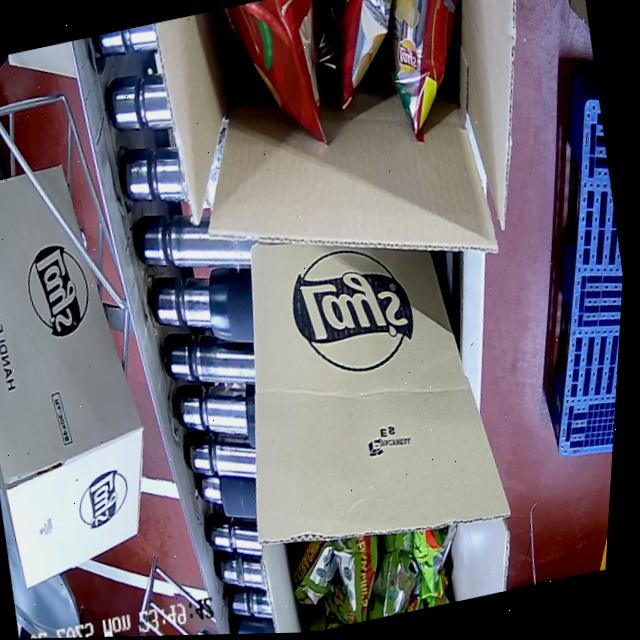YOGURT_HERB: (289, 510, 469, 633)
